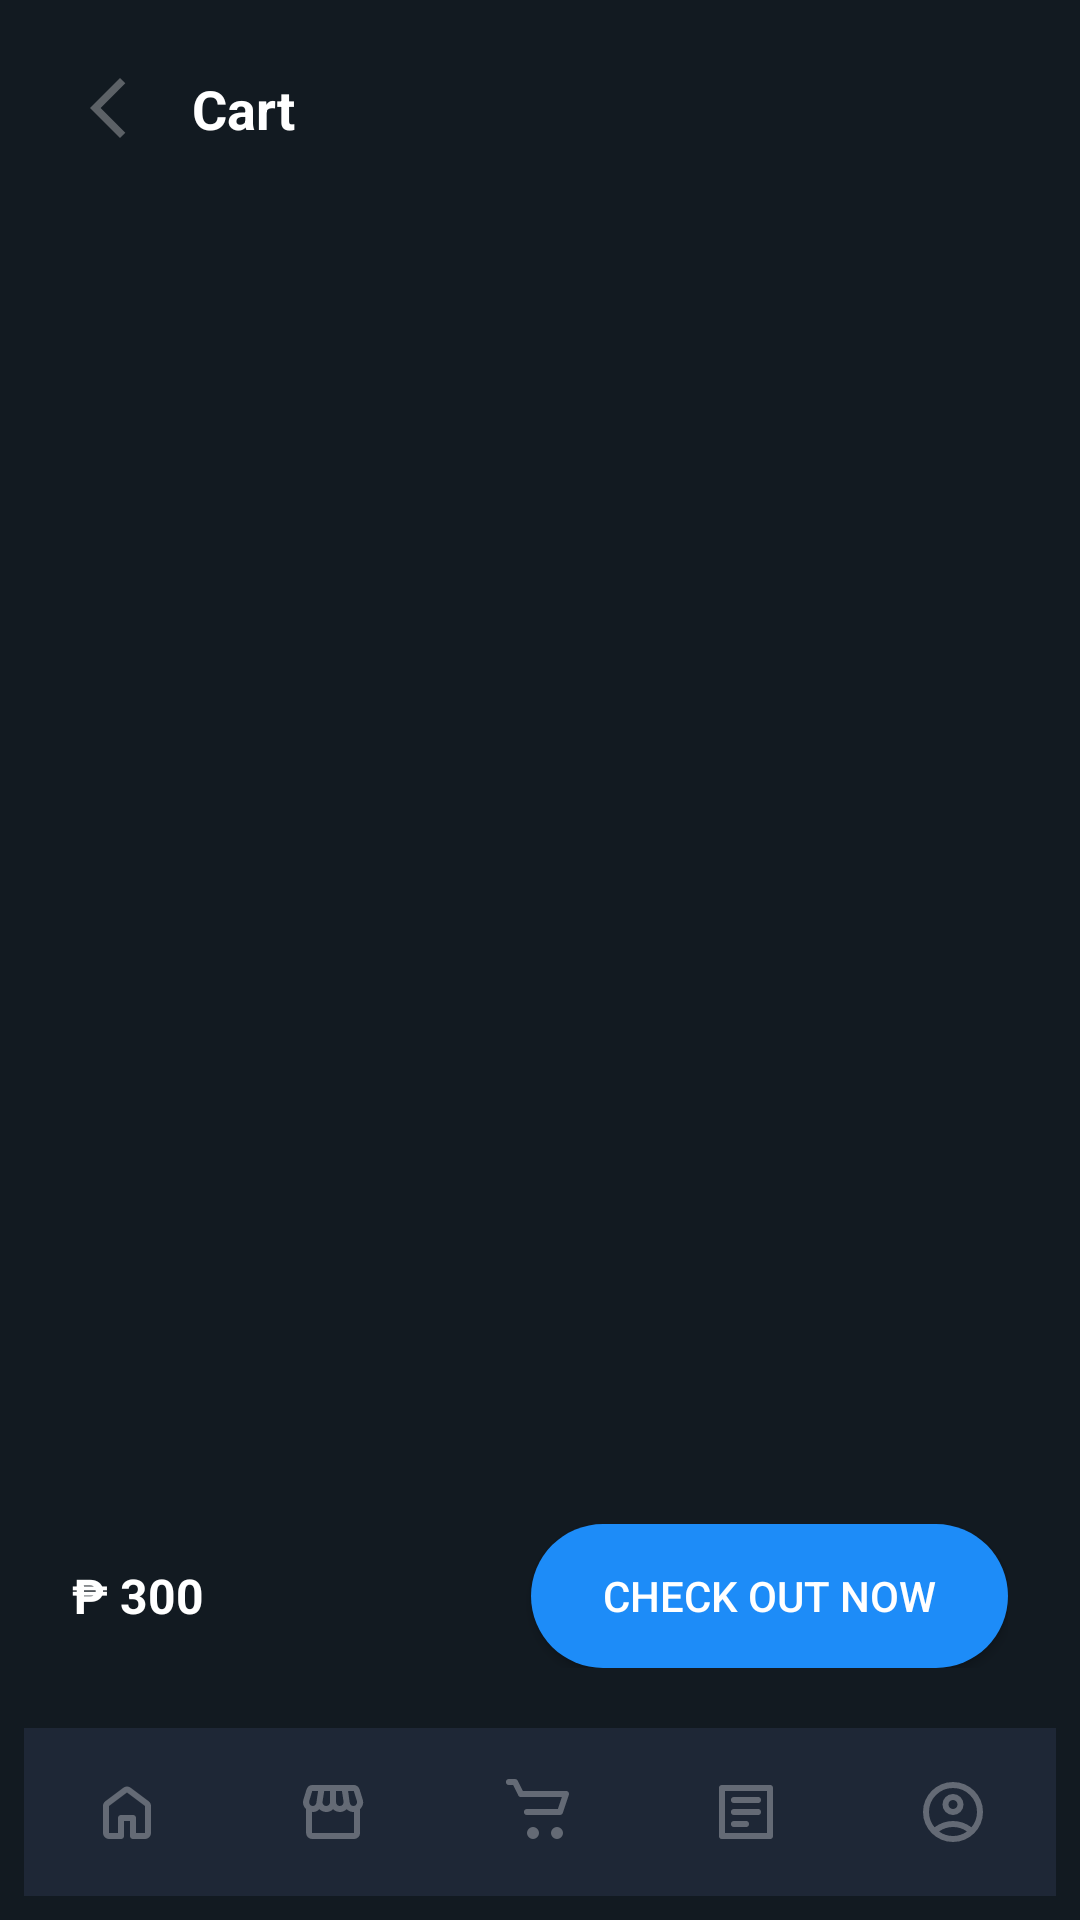

Where to tap for icons on this 1080w x 1920h app screen, as (x=x, y=y):
Account: (x=953, y=1812)
Back: (x=107, y=108)
Cart: (x=537, y=1809)
Home: (x=127, y=1812)
Orders: (x=746, y=1812)
